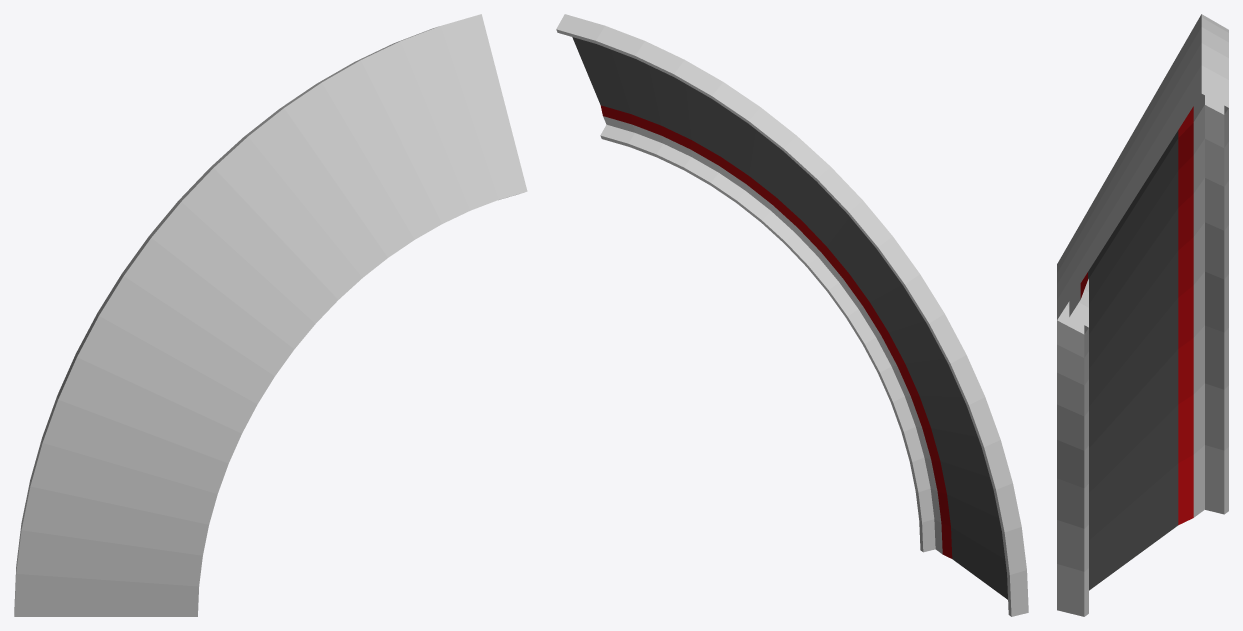
File: Curve_Pitch2.fbx
3 views of the same model, side by side, from view 1: azimuth 30°, elevation 25°; view 2: azimuth 150°, elevation 25°; view 3: azimuth 270°, elevation 25° (orthographic). The views are drawn at different scales.
Parts seen in each view (by area): view 1: Curve_Pitch2; view 2: Curve_Pitch2; view 3: Curve_Pitch2.
Boxes of the visible parts, box(x1,y1,x2,y2) form: Curve_Pitch2: box(14, 14, 527, 616); Curve_Pitch2: box(556, 14, 1028, 616); Curve_Pitch2: box(1057, 14, 1228, 616).
Bounding box in the file's own units: 3764 × 3764 × 761.
